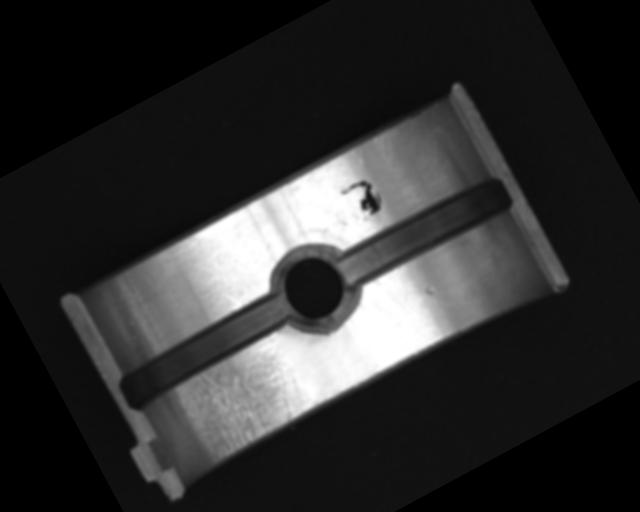blot: (336, 172, 389, 228)
bruise: (423, 284, 437, 297)
gap: (330, 167, 519, 297), (111, 289, 297, 413)
hole: (255, 231, 371, 349)
nick: (223, 287, 246, 313)
scratch: (160, 328, 322, 471)
